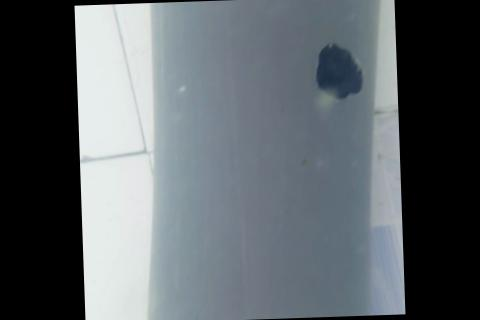kebocoran: (312, 38, 366, 103)
